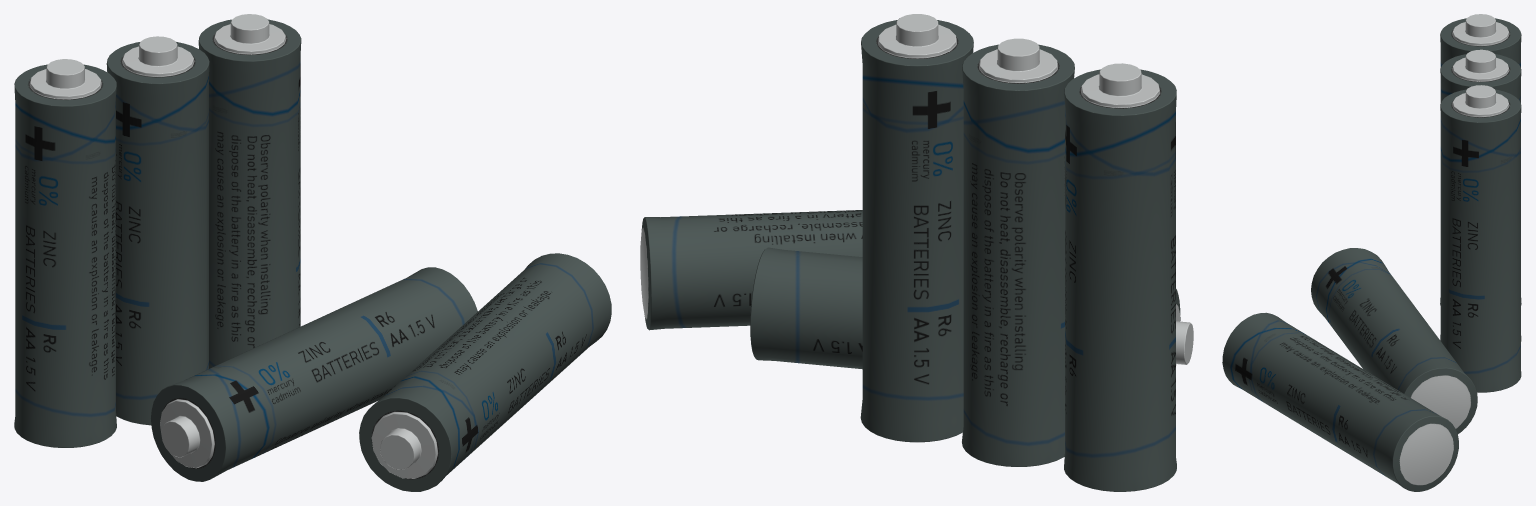
File: batteries.glb
3 renders of one model, left to right at view 1: azimuth 30°, elevation 25°; view 2: azimuth 150°, elevation 25°; view 3: azimuth 270°, elevation 25°, orthographic. The views are drawn at different scales.
Visible parts, largest first — view 1: AA_Battery_low, AA_Battery_low.002, AA_Battery_low.004, AA_Battery_low.003, AA_Battery_low.005; view 2: AA_Battery_low, AA_Battery_low.002, AA_Battery_low.003, AA_Battery_low.005, AA_Battery_low.004; view 3: AA_Battery_low.003, AA_Battery_low.005, AA_Battery_low.004, AA_Battery_low, AA_Battery_low.002.
Part boxes in pixels (<box>): AA_Battery_low: <box>14,59,116,447</box>; AA_Battery_low.002: <box>106,36,209,425</box>; AA_Battery_low.004: <box>150,267,477,481</box>; AA_Battery_low.003: <box>198,14,301,368</box>; AA_Battery_low.005: <box>359,253,611,491</box>; AA_Battery_low: <box>1064,63,1176,491</box>; AA_Battery_low.002: <box>962,38,1074,466</box>; AA_Battery_low.003: <box>860,14,973,442</box>; AA_Battery_low.005: <box>640,210,862,330</box>; AA_Battery_low.004: <box>750,247,1193,369</box>; AA_Battery_low.003: <box>1440,85,1521,392</box>; AA_Battery_low.005: <box>1222,312,1458,491</box>; AA_Battery_low.004: <box>1311,248,1477,433</box>; AA_Battery_low: <box>1440,14,1521,305</box>; AA_Battery_low.002: <box>1440,49,1521,341</box>.
Size of the model in its own units: 0.0655 by 0.0431 by 0.0401.
Materials: 1 (1 with a texture image).
